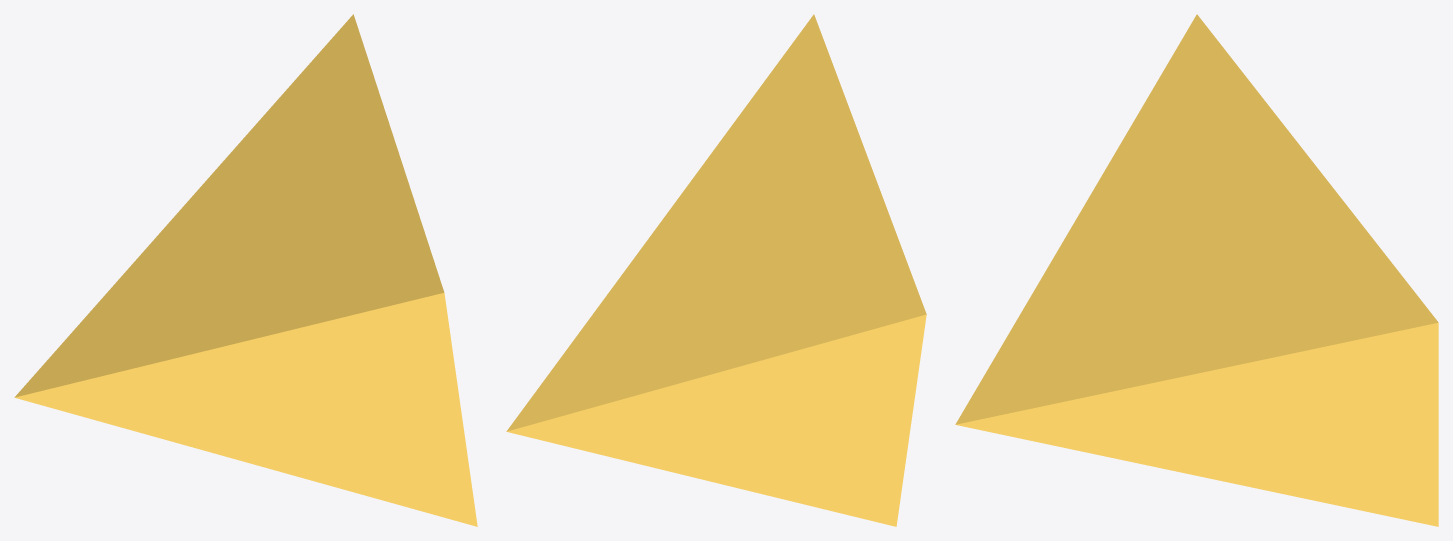
File: living_visual_backend_probe.glb
The picture shows the model from 3 angles, left to right: view 1: azimuth 30°, elevation 25°; view 2: azimuth 150°, elevation 25°; view 3: azimuth 270°, elevation 25°; orthographic projection. The views are drawn at different scales.
Visible parts, largest first — view 1: Temporary Living Visual Backend Probe; view 2: Temporary Living Visual Backend Probe; view 3: Temporary Living Visual Backend Probe.
Boxes of the visible parts, left/top/right/bottom form: Temporary Living Visual Backend Probe: left=14, top=14, right=477, bottom=526; Temporary Living Visual Backend Probe: left=506, top=14, right=926, bottom=526; Temporary Living Visual Backend Probe: left=955, top=14, right=1438, bottom=526.
Bounding box in the file's own units: 1.6 × 1.5 × 1.6.
